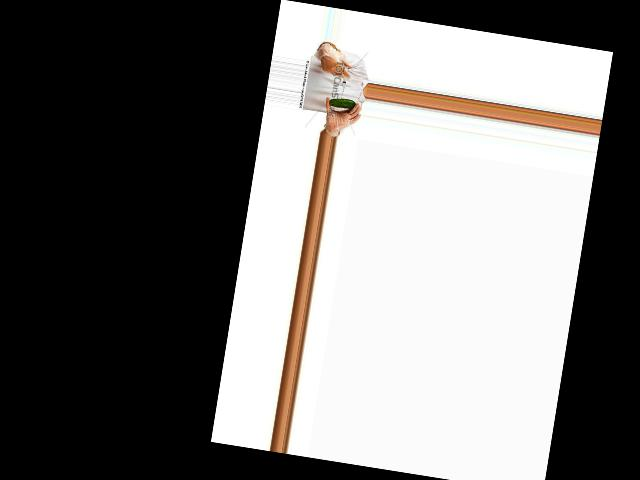cucumber: (327, 97, 355, 110)
